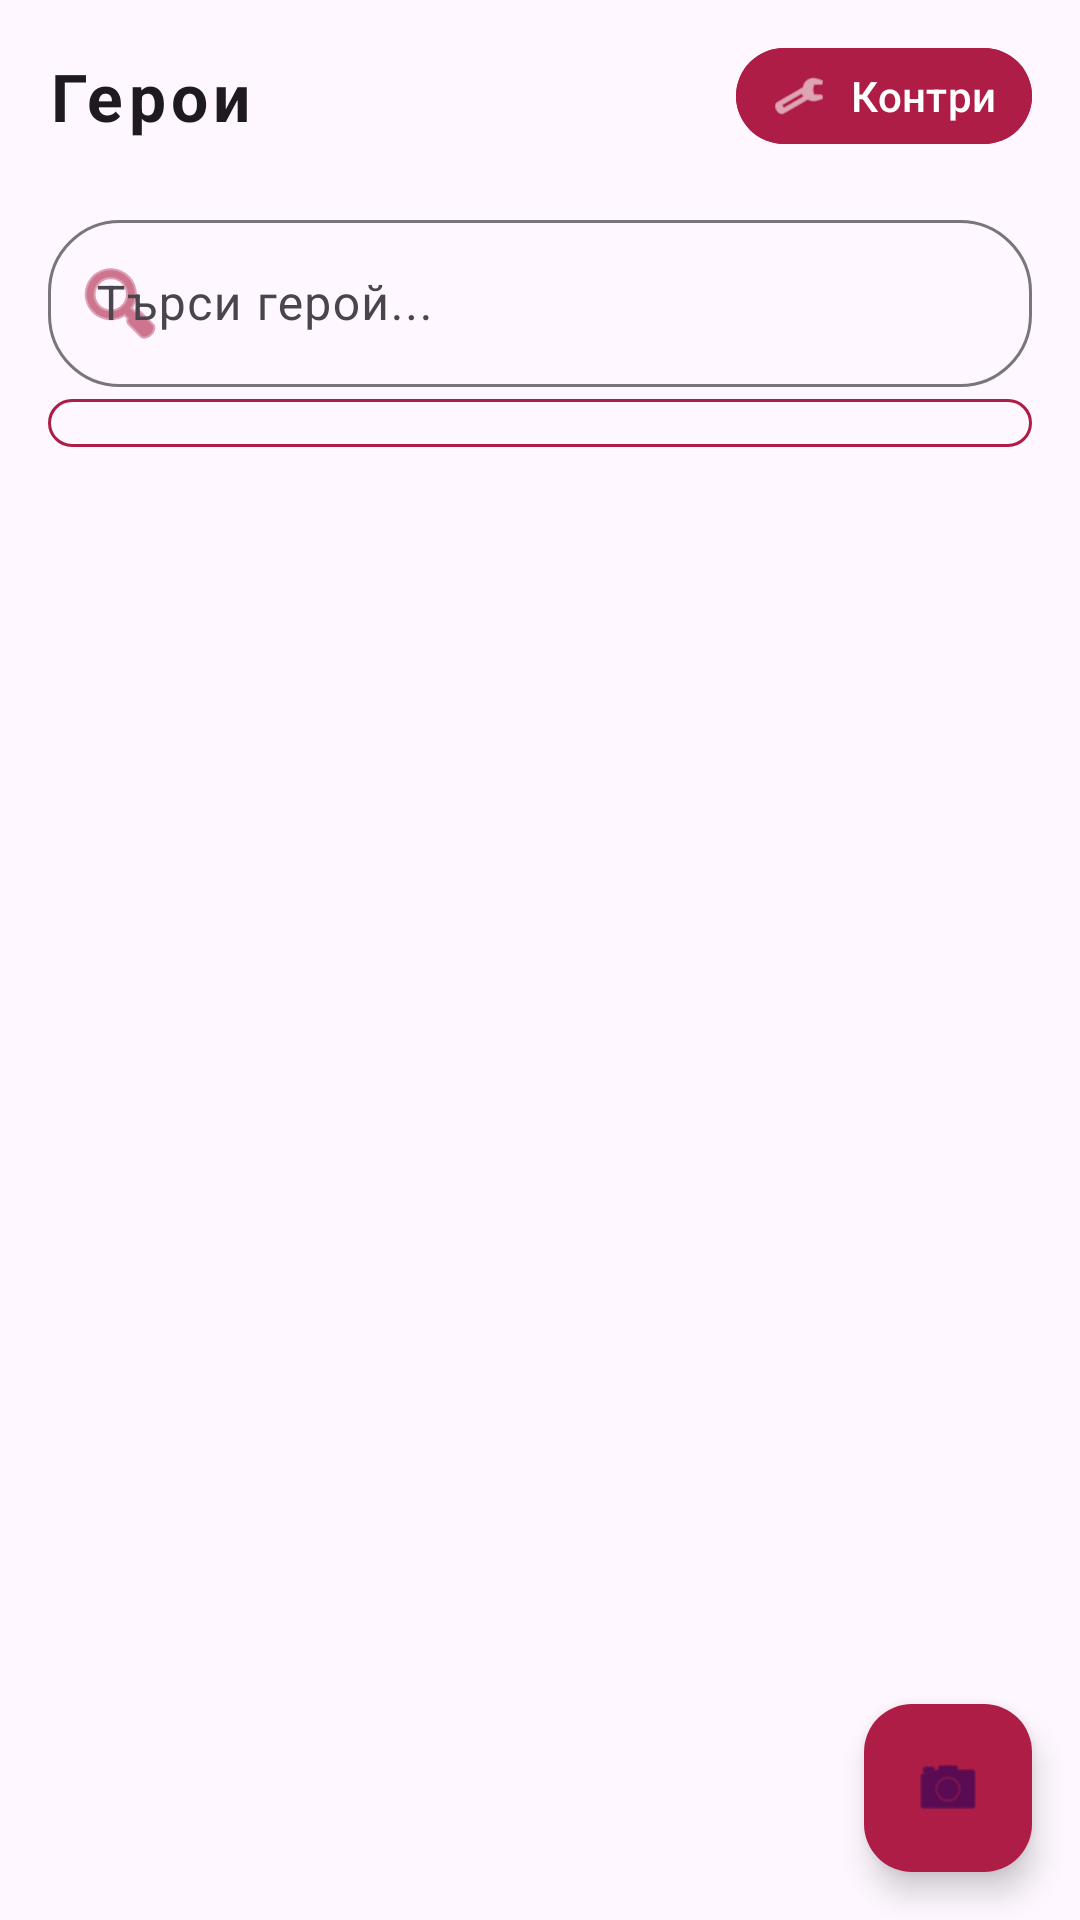

Icons on this 1080×1920 Android screen, each with its box as detection(x1, y1, x2, y2):
QR скенер: detection(864, 1704, 1032, 1872)
